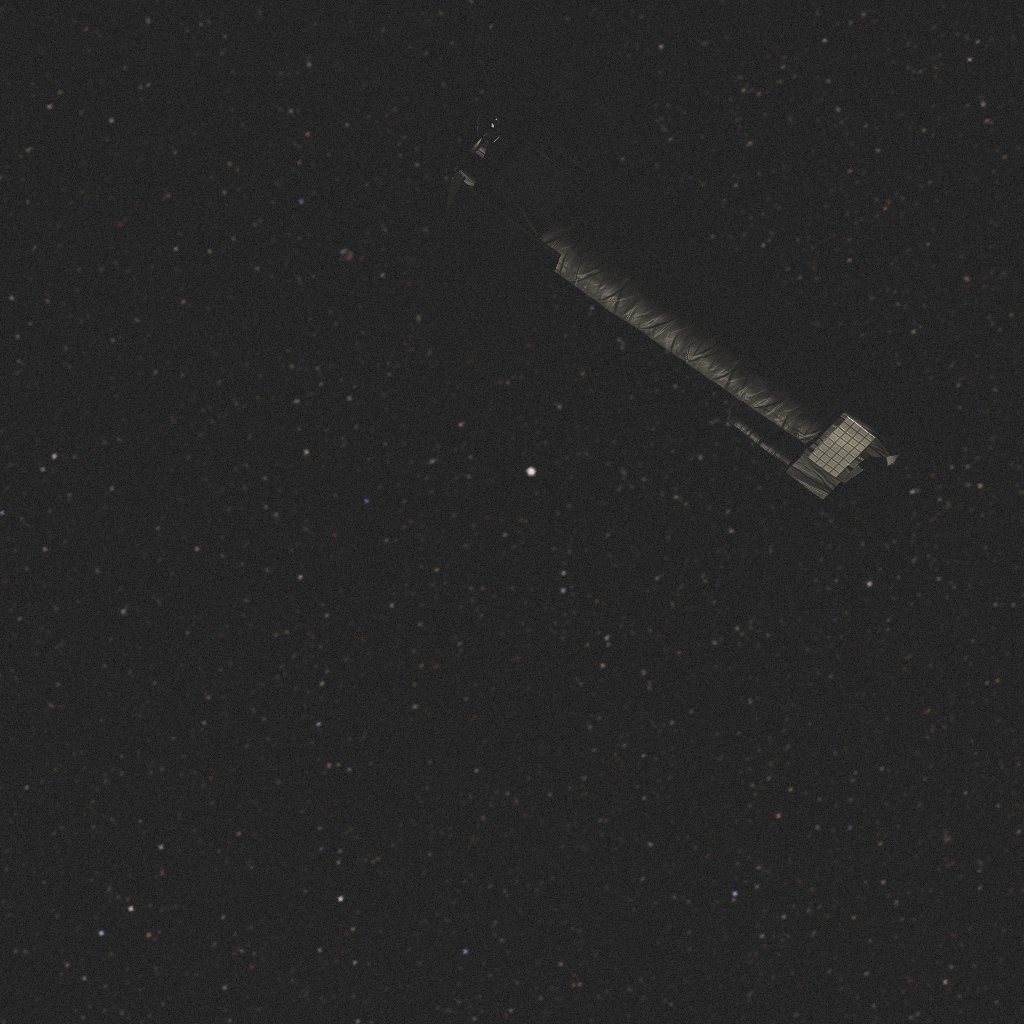xmm_newton: (409, 0, 965, 499)
